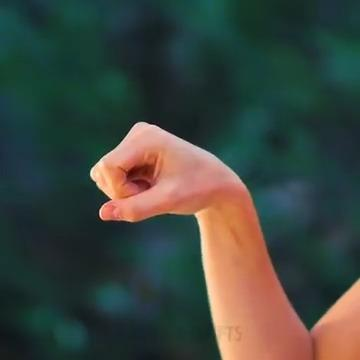No: (71, 93, 249, 257)
